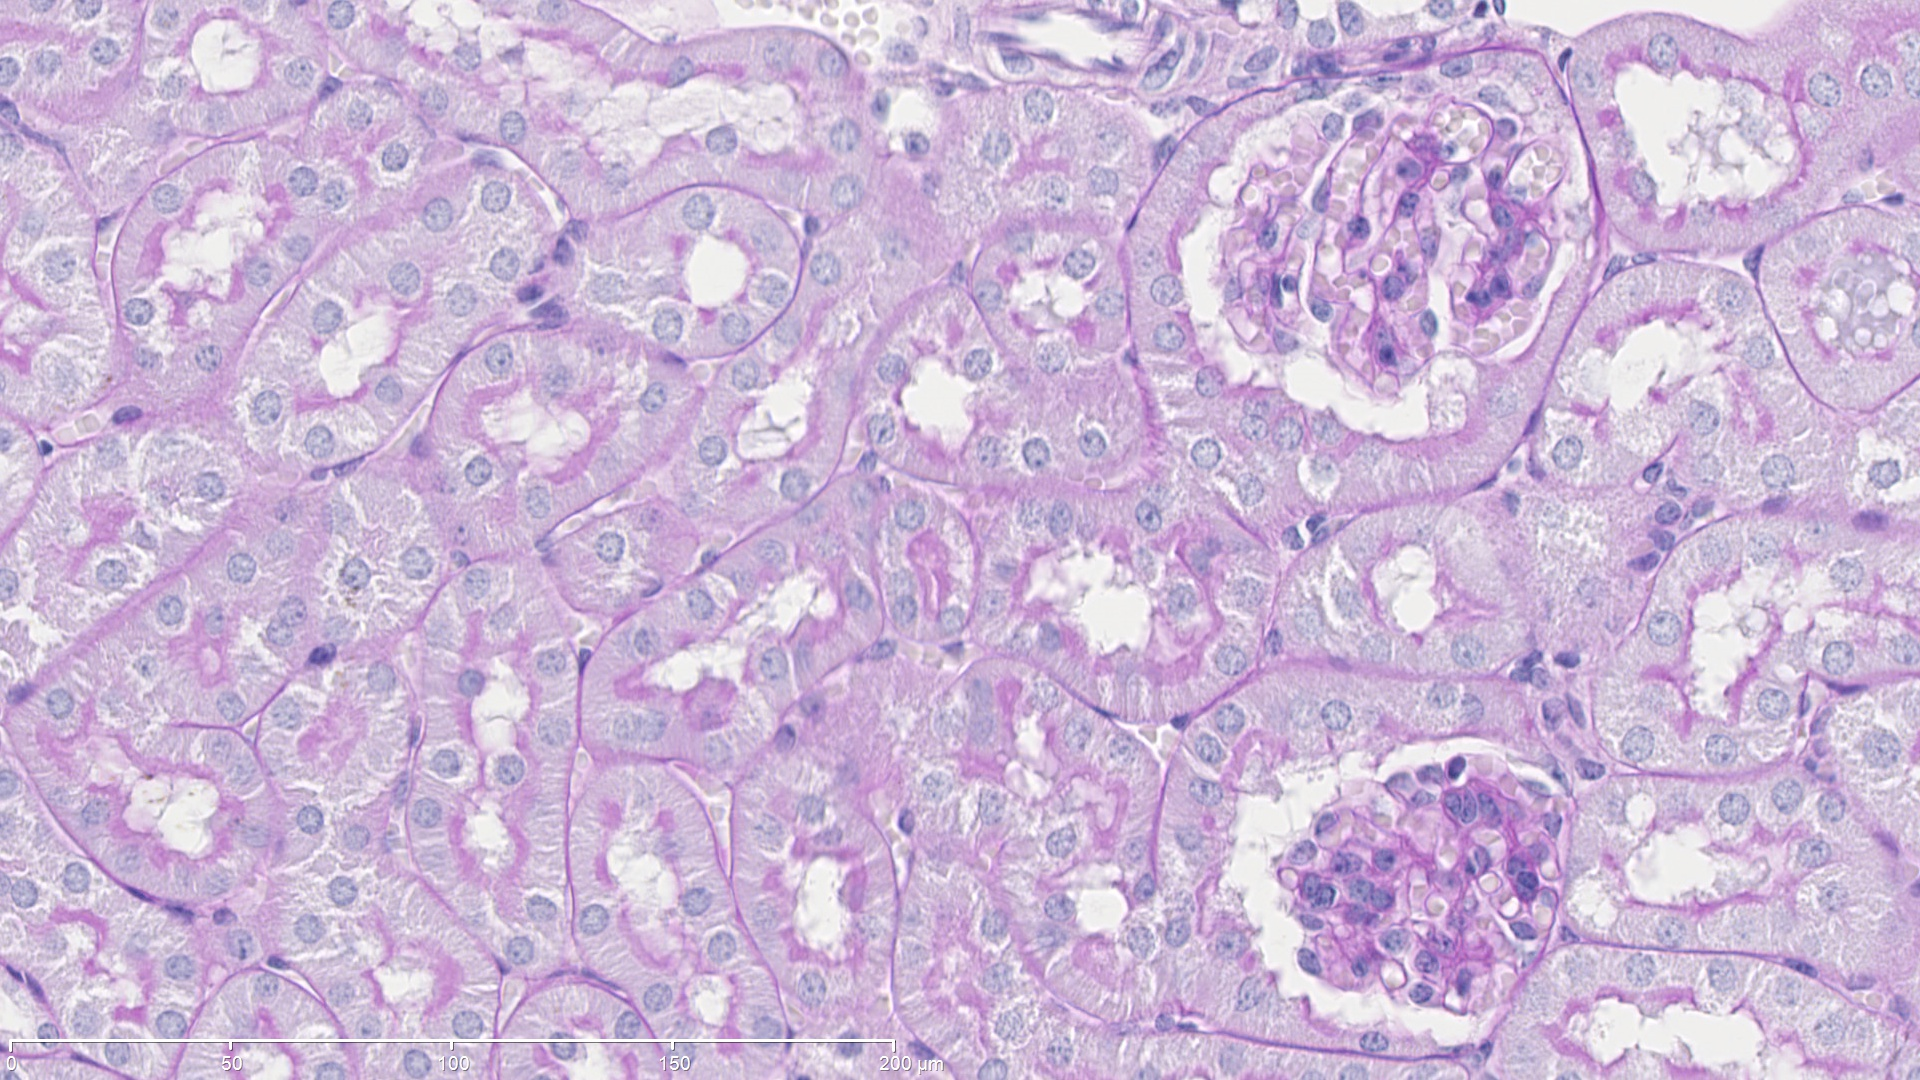Glomeruli: (1170, 54, 1598, 401), (1233, 744, 1592, 1021)
